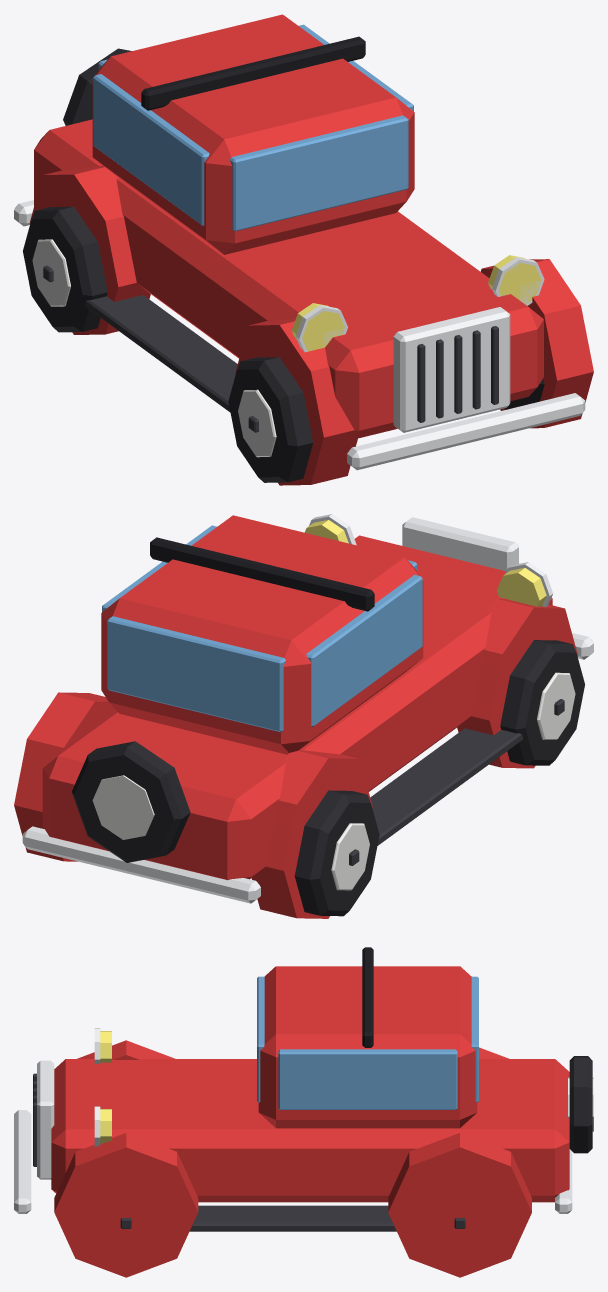
File: RedClassicCar.fbx
3 views of the same model, one above another, from view 1: azimuth 30°, elevation 25°; view 2: azimuth 150°, elevation 25°; view 3: azimuth 270°, elevation 25° (orthographic). The views are drawn at different scales.
Parts seen in each view (by area): view 1: RedClassicCar, RedClassicCar_WheelFR, RedClassicCar_WheelBR; view 2: RedClassicCar, RedClassicCar_WheelBR, RedClassicCar_WheelFR; view 3: RedClassicCar.
Boxes of the visible parts, bbox=[...] form: RedClassicCar: bbox=[14, 14, 593, 485]; RedClassicCar_WheelFR: bbox=[228, 357, 313, 482]; RedClassicCar_WheelBR: bbox=[23, 206, 107, 332]; RedClassicCar: bbox=[14, 514, 593, 918]; RedClassicCar_WheelBR: bbox=[294, 790, 379, 916]; RedClassicCar_WheelFR: bbox=[500, 640, 584, 765]; RedClassicCar: bbox=[14, 947, 593, 1277].
Size of the model in its own units: 4.92 by 4.4 by 10.08.
Materials: 1 (1 with a texture image).
